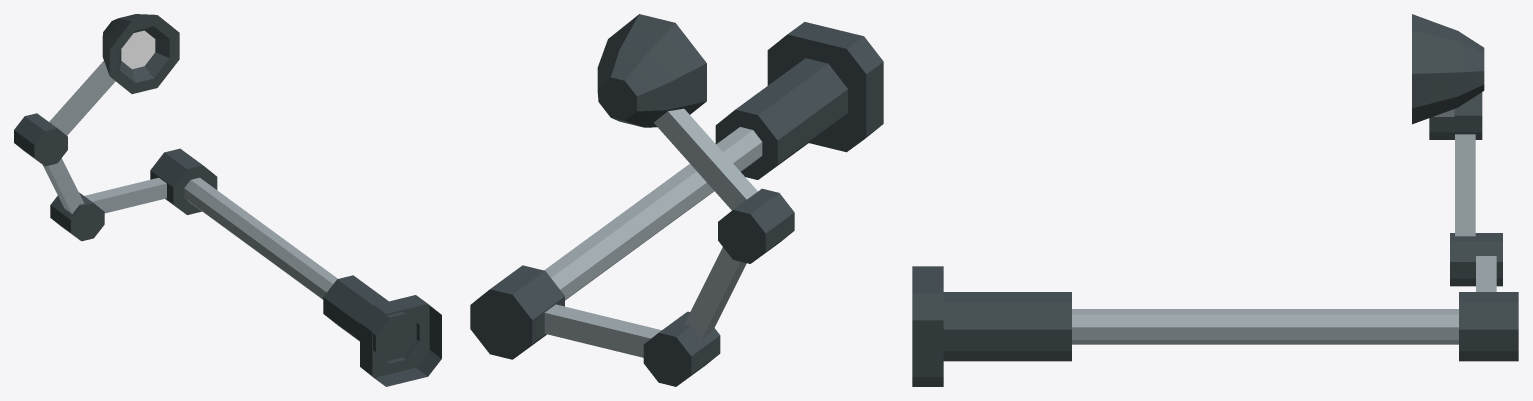
File: Standing Lamp 01.FBX
3 views of the same model, side by side, from view 1: azimuth 30°, elevation 25°; view 2: azimuth 150°, elevation 25°; view 3: azimuth 270°, elevation 25° (orthographic). The views are drawn at different scales.
Parts seen in each view (by area): view 1: Standing Lamp 01; view 2: Standing Lamp 01; view 3: Standing Lamp 01.
Part boxes in pixels (x1,y1,x2,y2): Standing Lamp 01: [14, 14, 441, 386]; Standing Lamp 01: [470, 14, 883, 386]; Standing Lamp 01: [912, 14, 1518, 386].
Bounding box in the file's own units: 119 × 131 × 233.
1 material, 1 textured.
